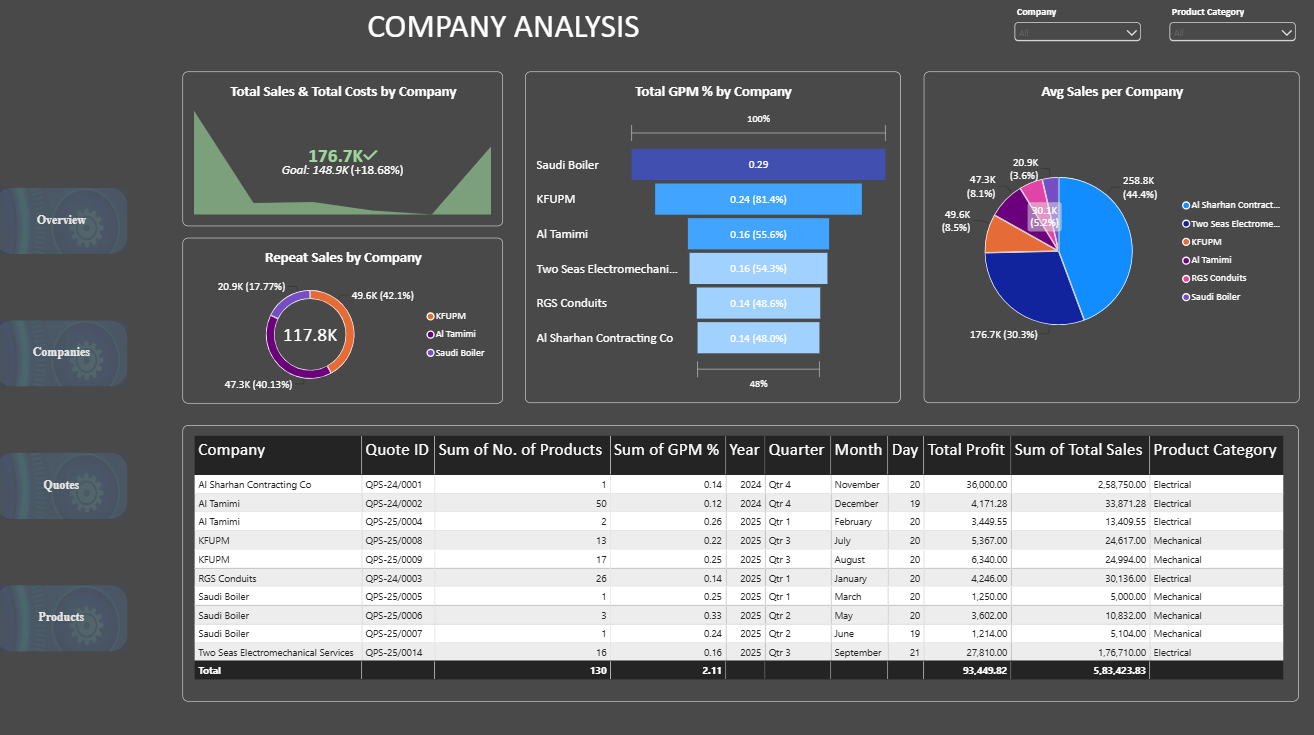

The page's visual inventory and layout, read from the dashboard file:
{"tool":"powerbi","page":{"name":"Companies","canvas":[1920,1080],"ordinal":1},"visuals":[{"type":"actionButton","box":[0,280.4,192,96],"z":0},{"type":"actionButton","box":[0,664.4,192,96],"z":1000},{"type":"actionButton","box":[0,472.4,192,96],"z":2000},{"type":"actionButton","box":[0,856.4,192,96],"z":3000},{"type":"kpi","title":"Total Sales & Total Costs by Company","fields":{"Goal":["SalesData.Sum of Total Costs"],"Indicator":["SalesData.Sum of Total Sales"],"TrendLine":["SalesData.Company"]},"box":[272,112,464,224],"z":4000},{"type":"textbox","box":[304,16,864,64],"z":5000},{"type":"donutChart","fields":{"Category":["SalesData.Company"],"Y":["SalesData.Repeat Sales"]},"box":[272,352,464,240],"z":6000},{"type":"pieChart","title":"Avg Sales per Company ","fields":{"Category":["SalesData.Company"],"Y":["SalesData.Avg Sales per Company"]},"box":[1344,112,544,480],"z":7000},{"type":"slicer","fields":{"Values":["SalesData.Company"]},"box":[1472,16,192,64],"z":8000},{"type":"slicer","fields":{"Values":["SalesData.Product Category"]},"box":[1696,16,192,64],"z":9000},{"type":"tableEx","fields":{"Values":["SalesData.Company","SalesData.Quote ID","Sum(SalesData.No. of Products)","Sum(SalesData.GPM %)","SalesData.Deal Closed Date.Variation.Date Hierarchy.Year","SalesData.Deal Closed Date.Variation.Date Hierarchy.Quarter","SalesData.Deal Closed Date.Variation.Date Hierarchy.Month","SalesData.Deal Closed Date.Variation.Date Hierarchy.Day","SalesData.Total Profit","SalesData.Sum of Total Sales","SalesData.Product Category"]},"box":[272,624,1616,400],"z":10000},{"type":"funnel","fields":{"Category":["SalesData.Company"],"Y":["SalesData.Total GPM %"]},"box":[768,112,544,480],"z":11000}]}

Visuals, with their boxes in screenshot pixels (x1, y1, x2, y2), scaled from the page's 1920x1080 canvas onto the 1314x735 screenshot:
actionButton: <bbox>0, 191, 131, 256</bbox>
actionButton: <bbox>0, 452, 131, 517</bbox>
actionButton: <bbox>0, 321, 131, 387</bbox>
actionButton: <bbox>0, 583, 131, 648</bbox>
"Total Sales & Total Costs by Company" kpi: <bbox>186, 76, 504, 229</bbox>
textbox: <bbox>208, 11, 799, 54</bbox>
donutChart - SalesData.Company x SalesData.Repeat Sales: <bbox>186, 240, 504, 403</bbox>
"Avg Sales per Company " pieChart: <bbox>920, 76, 1292, 403</bbox>
slicer - SalesData.Company: <bbox>1007, 11, 1139, 54</bbox>
slicer - SalesData.Product Category: <bbox>1161, 11, 1292, 54</bbox>
tableEx - SalesData.Company x SalesData.Quote ID: <bbox>186, 425, 1292, 697</bbox>
funnel - SalesData.Company x SalesData.Total GPM %: <bbox>526, 76, 898, 403</bbox>
